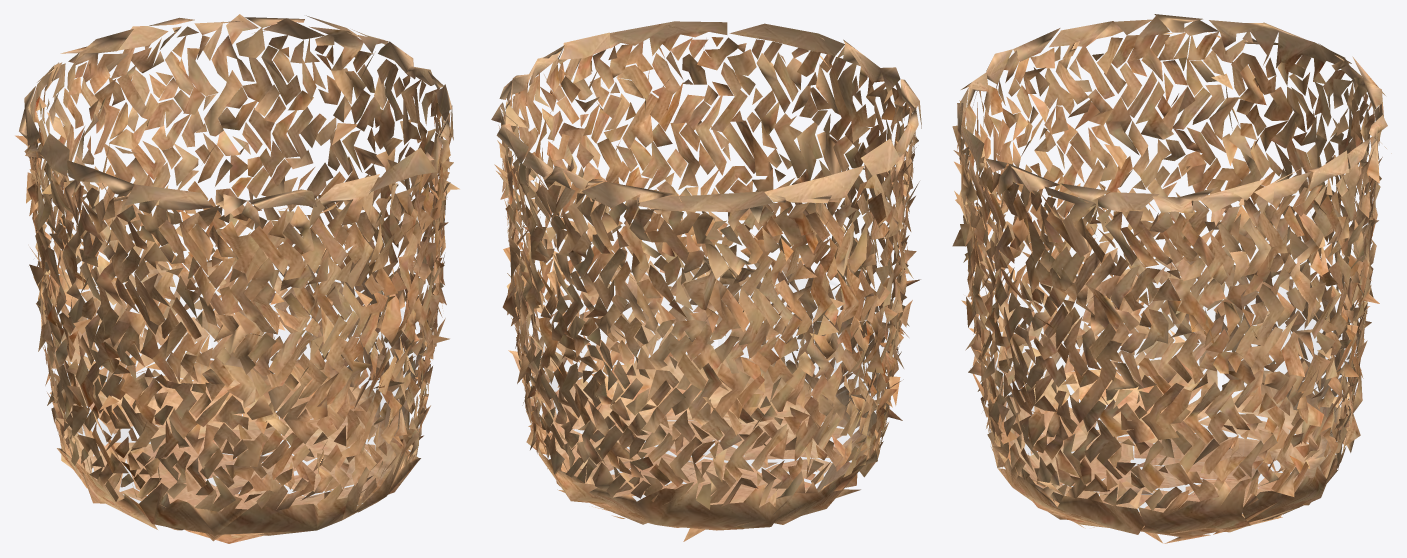
3 renders of one model, left to right at view 1: azimuth 30°, elevation 25°; view 2: azimuth 150°, elevation 25°; view 3: azimuth 270°, elevation 25°, orthographic.
Visible parts, largest first — view 1: ASY_ART_20516408_S01_NV01; view 2: ASY_ART_20516408_S01_NV01; view 3: ASY_ART_20516408_S01_NV01.
Part boxes in pixels (left/top/right/bottom): ASY_ART_20516408_S01_NV01: left=15, top=14, right=459, bottom=543; ASY_ART_20516408_S01_NV01: left=491, top=21, right=921, bottom=541; ASY_ART_20516408_S01_NV01: left=952, top=14, right=1391, bottom=543.
Size of the model in its own units: 0.2775 by 0.2736 by 0.2757.
Materials: 2 (1 with a texture image).
